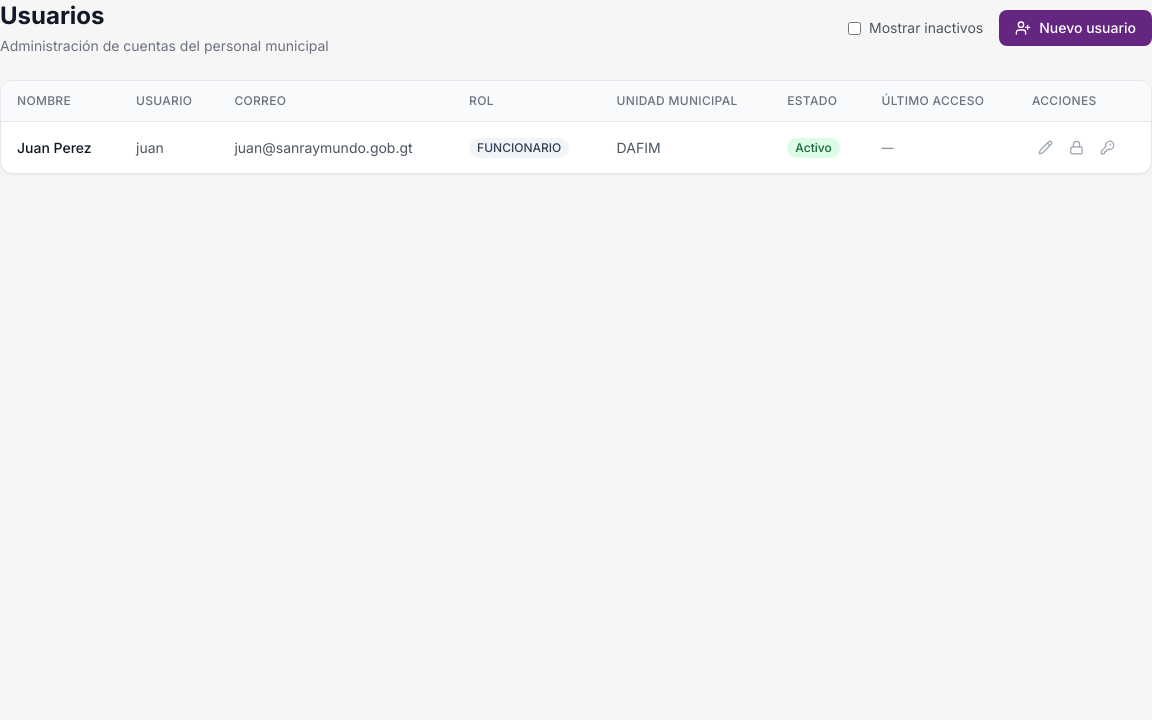
UsuariosPage › abre modal de editar con datos precargados
Expected: the text "Juan Perez" is shown, [17, 138, 92, 158]
What coordinates should you click on to do the following:
click the button titled "Editar"
I would click on:
 (1045, 148)
Its box is [1032, 134, 1059, 161].
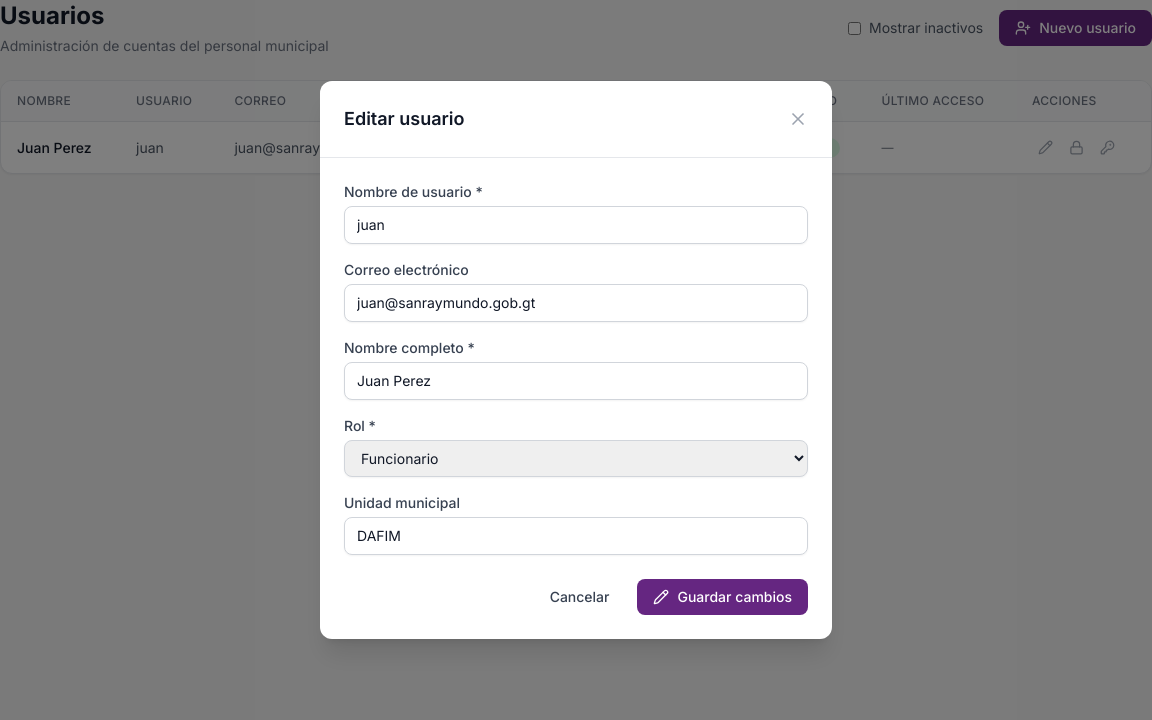
Expected: the heading "Editar usuario" is shown, [344, 105, 464, 133]
Expected: the field showing "Juan Perez" is shown, [344, 362, 808, 400]
